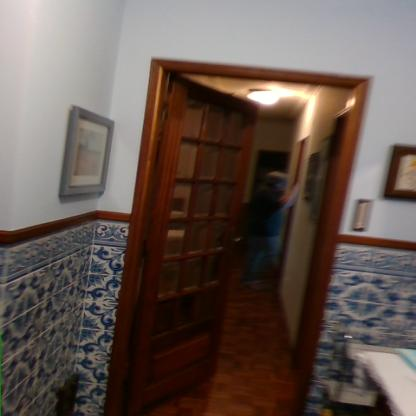semi: (124, 42, 364, 416)
